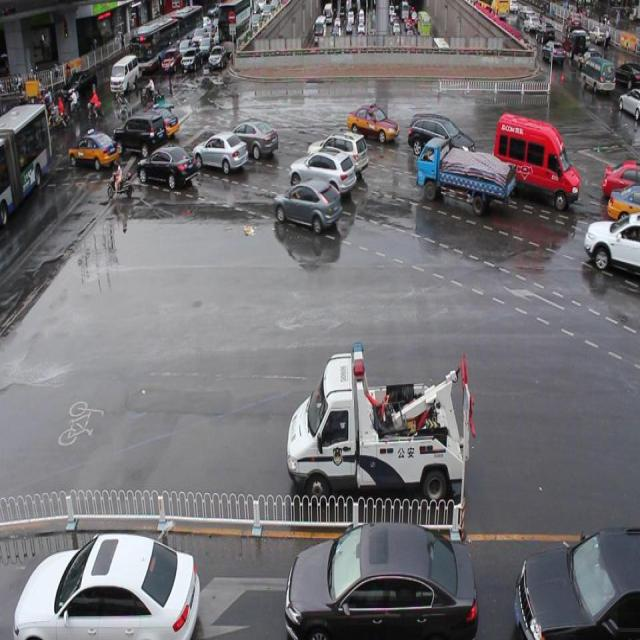bus: (288, 335, 476, 505), (418, 138, 512, 213)
car: (284, 521, 477, 640), (14, 528, 198, 640), (514, 526, 640, 640), (582, 212, 640, 275), (290, 146, 357, 200), (408, 108, 474, 160), (274, 180, 340, 230), (308, 132, 369, 175), (192, 129, 247, 172), (138, 148, 194, 187), (222, 120, 277, 159), (348, 100, 398, 136), (603, 154, 640, 197), (608, 180, 640, 227)
truck: (492, 107, 580, 202)
